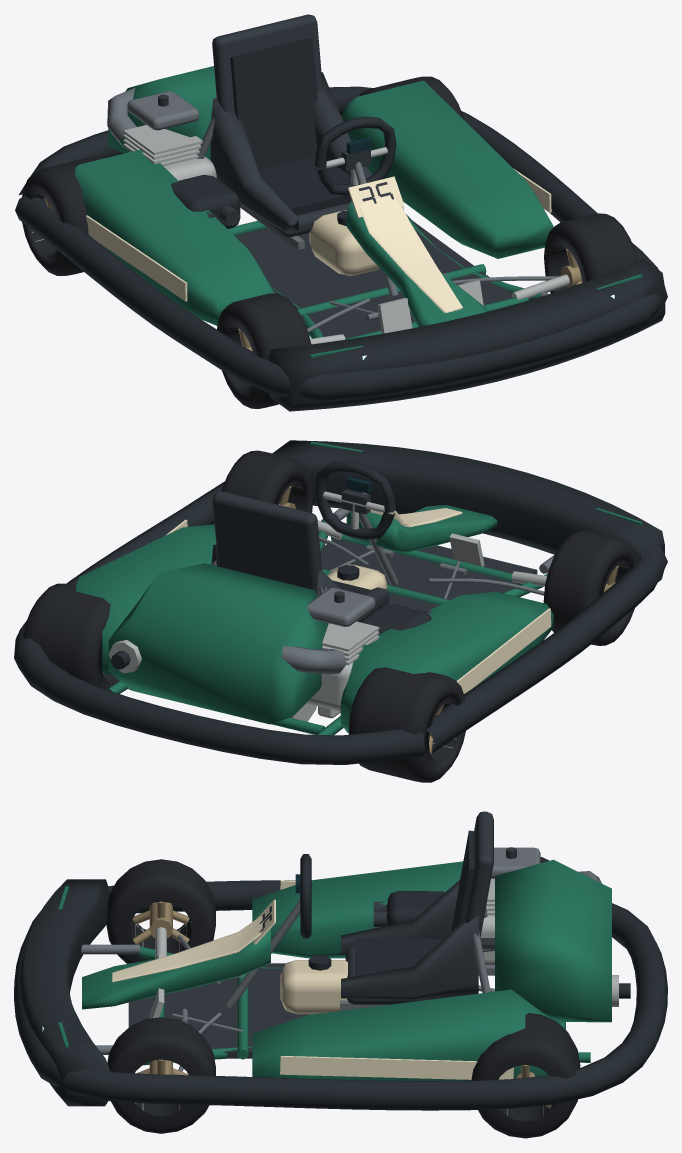
Rendered from ooli-lod.glb.
3 renders of one model, top to bottom at view 1: azimuth 30°, elevation 25°; view 2: azimuth 150°, elevation 25°; view 3: azimuth 270°, elevation 25°, orthographic.
Parts seen in each view (by area): view 1: Moulded bumper polymer (×3), paint, Satin composite, Slick vulcanised rubber (×4), Seat fabric, Livery ivory, Steel fasteners, Brushed alloy (×2), Fuel reservoir; view 2: paint, Moulded bumper polymer (×3), Slick vulcanised rubber (×4), Satin composite (×2), Brushed alloy (×3), Steel fasteners, Livery ivory, Fuel reservoir; view 3: paint, Moulded bumper polymer (×3), Slick vulcanised rubber (×3), Satin composite, Livery ivory, Steel fasteners (×2), Seat fabric, Fuel reservoir, Magnesium wheel centres, Brushed alloy.
Part boxes in pixels (left/top/right/bottom): Moulded bumper polymer (×3): left=15, top=86, right=667, bottom=411; paint: left=75, top=66, right=553, bottom=339; Satin composite: left=158, top=14, right=512, bottom=338; Slick vulcanised rubber (×4): left=22, top=76, right=637, bottom=408; Seat fabric: left=230, top=37, right=351, bottom=215; Livery ivory: left=86, top=168, right=551, bottom=312; Steel fasteners: left=107, top=88, right=558, bottom=332; Brushed alloy (×2): left=123, top=125, right=569, bottom=344; Fuel reservoir: left=309, top=210, right=379, bottom=275; paint: left=75, top=505, right=553, bottom=735; Moulded bumper polymer (×3): left=14, top=440, right=667, bottom=764; Slick vulcanised rubber (×4): left=23, top=450, right=639, bottom=782; Satin composite (×2): left=211, top=489, right=537, bottom=621; Brushed alloy (×3): left=109, top=491, right=546, bottom=721; Steel fasteners: left=211, top=513, right=544, bottom=711; Livery ivory: left=165, top=508, right=551, bottom=693; Fuel reservoir: left=327, top=564, right=387, bottom=589; paint: left=82, top=859, right=611, bottom=1081; Moulded bumper polymer (×3): left=14, top=854, right=667, bottom=1110; Slick vulcanised rubber (×3): left=106, top=859, right=580, bottom=1138; Satin composite: left=128, top=811, right=516, bottom=1058; Livery ivory: left=112, top=880, right=513, bottom=1079; Steel fasteners (×2): left=81, top=847, right=601, bottom=1074; Seat fabric: left=355, top=830, right=474, bottom=976; Fuel reservoir: left=280, top=960, right=347, bottom=1014; Magnesium wheel centres: left=133, top=901, right=189, bottom=944; Brushed alloy: left=155, top=878, right=618, bottom=1006.
Bounding box in the file's own units: 2.17 × 1.01 × 2.8.
